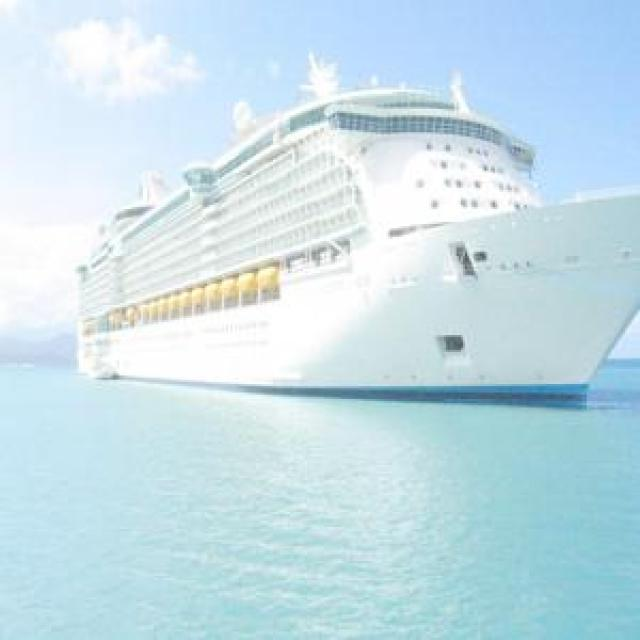passenger ship: (71, 60, 640, 413)
